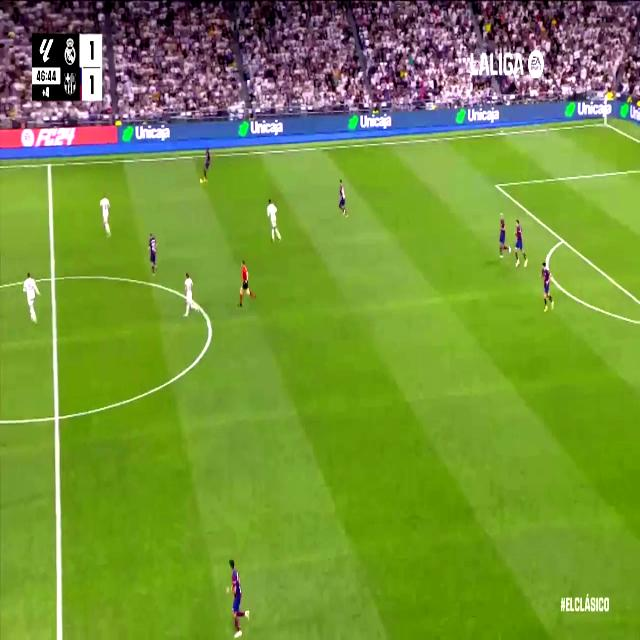bigarea_top_inner: (493, 178, 500, 192)
corner: (601, 118, 609, 129)
halfcircle_bottom: (50, 397, 64, 435)
halfcircle_top: (47, 263, 59, 292)
midline_top_intersection: (44, 158, 54, 175)
top_arc_area_intersection: (559, 230, 567, 248)
